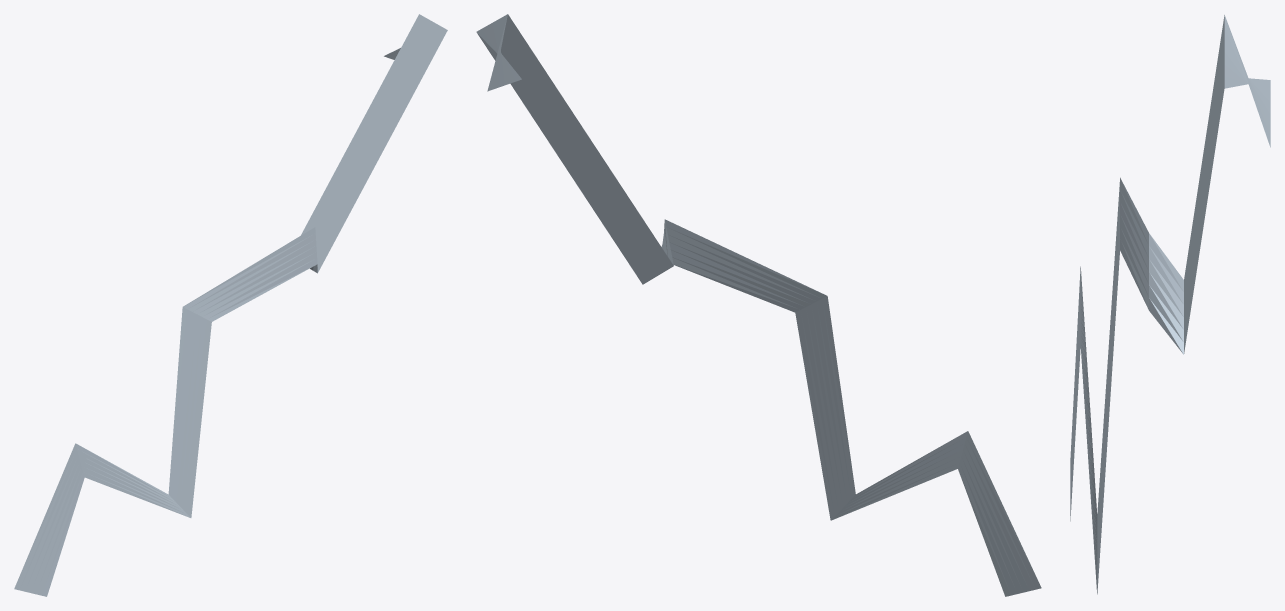
The model's file is 2059_ElectroSurround_SurroundArc2.fbx.
3 renders of one model, left to right at view 1: azimuth 30°, elevation 25°; view 2: azimuth 150°, elevation 25°; view 3: azimuth 270°, elevation 25°, orthographic. The views are drawn at different scales.
Parts seen in each view (by area): view 1: PART_SurroundArc2; view 2: PART_SurroundArc2; view 3: PART_SurroundArc2.
Boxes of the visible parts, x1=… form: PART_SurroundArc2: x1=14, y1=14, x2=447, y2=596; PART_SurroundArc2: x1=476, y1=14, x2=1041, y2=596; PART_SurroundArc2: x1=1070, y1=15, x2=1270, y2=594.
Size of the model in its own units: 57.37 by 52.76 by 10.53.
